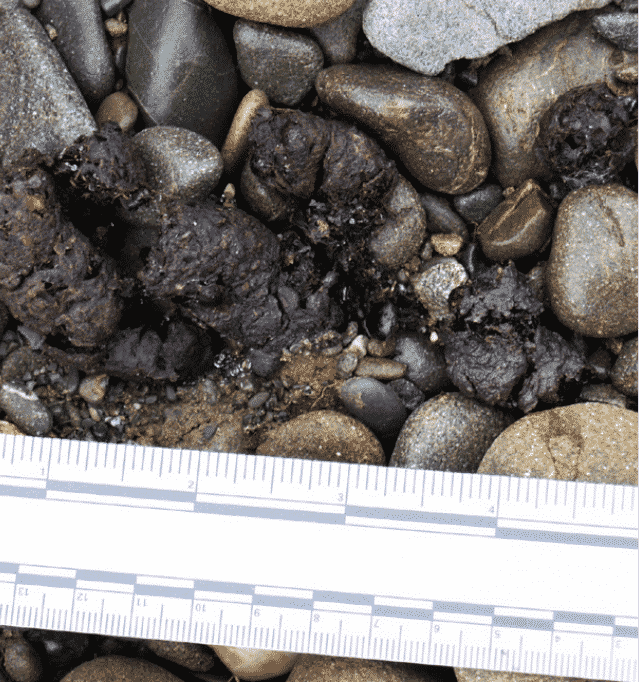Elk: (13, 176, 272, 352), (267, 122, 376, 304)
